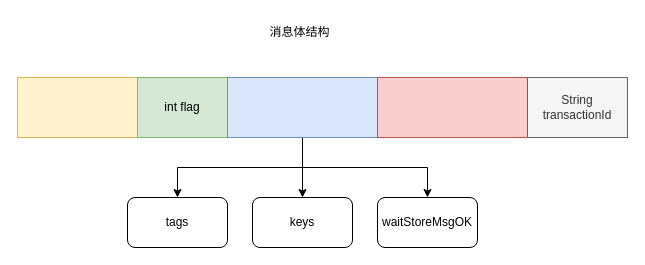
The diagram is 645 pixels wide and 265 high, and some of its shapes have lost their labels. Each missing label, with the centre of its shape:
"byte[] body" goes at (x=452, y=107).
"Map<String, String> properties" goes at (x=302, y=107).
"String topic" goes at (x=77, y=107).
